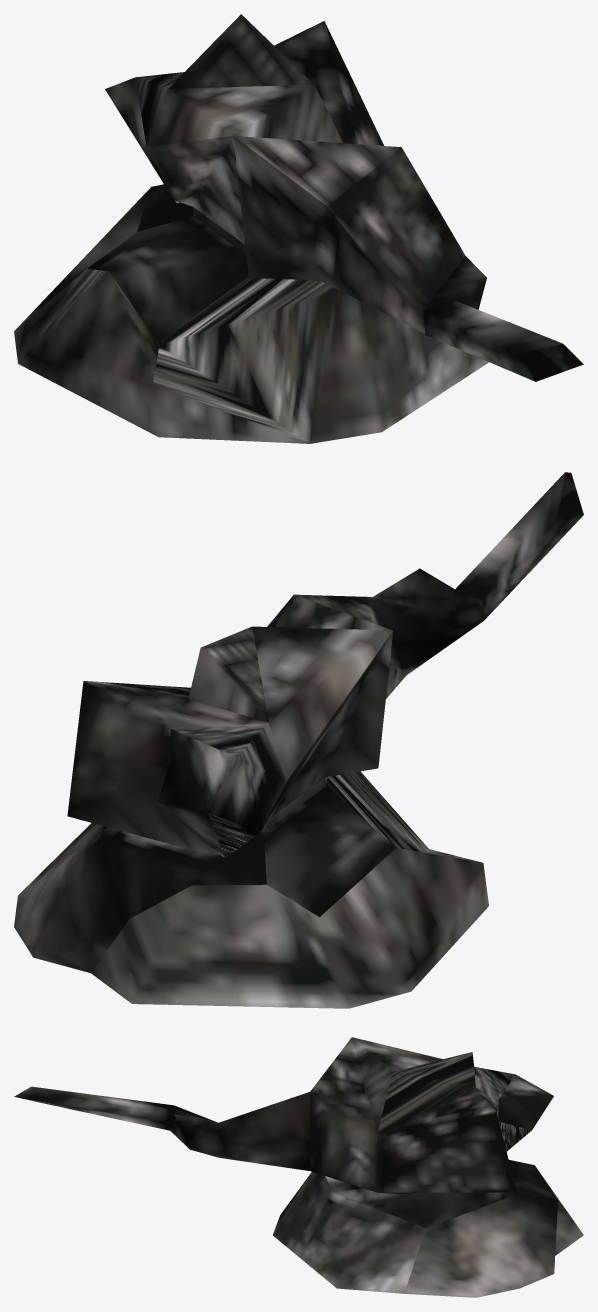
Rendered from corellian_corvette_turret_side_r_destroyed_l2.fbx.
3 views of the same model, one above another, from view 1: azimuth 30°, elevation 25°; view 2: azimuth 150°, elevation 25°; view 3: azimuth 270°, elevation 25° (orthographic). The views are drawn at different scales.
Parts seen in each view (by area): view 1: mesh_node; view 2: mesh_node; view 3: mesh_node.
Boxes of the visible parts, left/top/right/bottom form: mesh_node: left=14, top=14, right=583, bottom=443; mesh_node: left=14, top=472, right=583, bottom=1008; mesh_node: left=14, top=1037, right=583, bottom=1297.
Bounding box in the file's own units: 10.64 × 7.52 × 20.48.
1 material, 1 textured.
